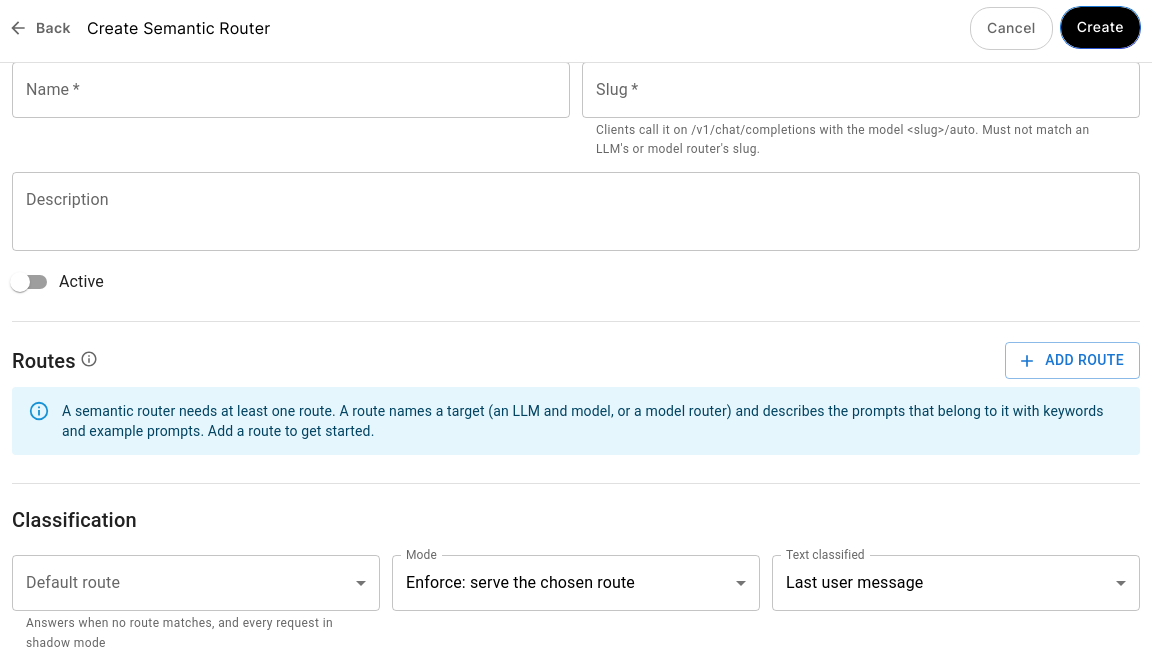
Scenario: SemanticRouterForm › flags bad route names, a missing target and examples without an embedder
The image size is (1152, 651).
Step 1. Type "Smart" into the field labelled "Name *" → [291, 90], box [12,62,570,118]
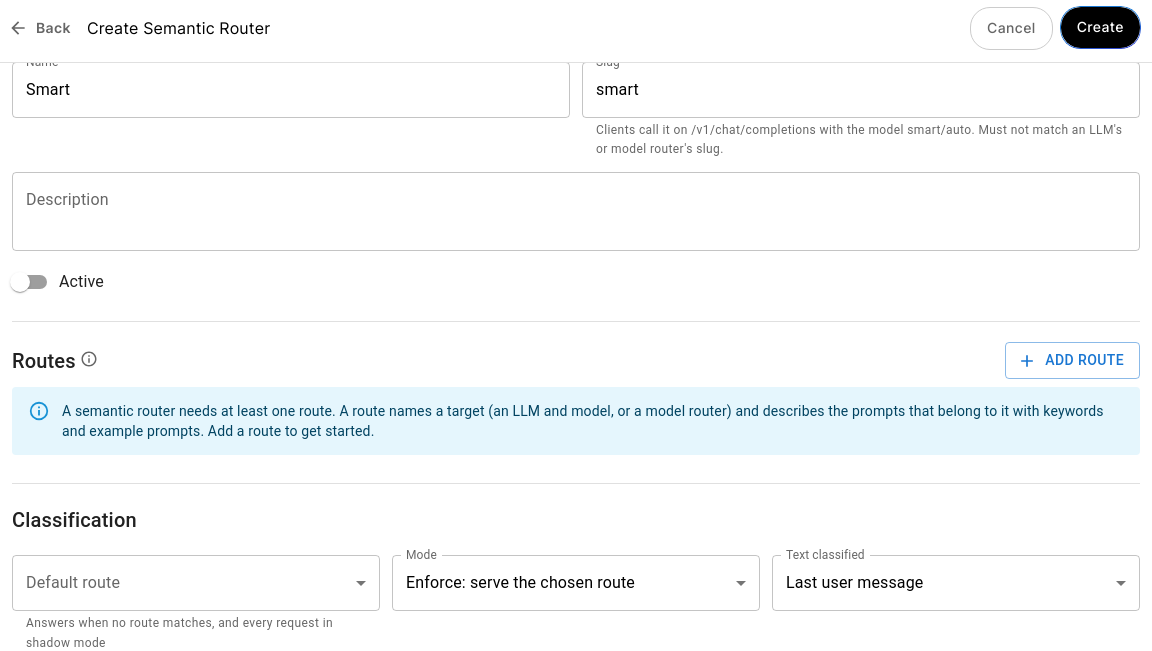
Step 2. Click the button "Add Route" → [1073, 361], box [1005,342,1140,379]
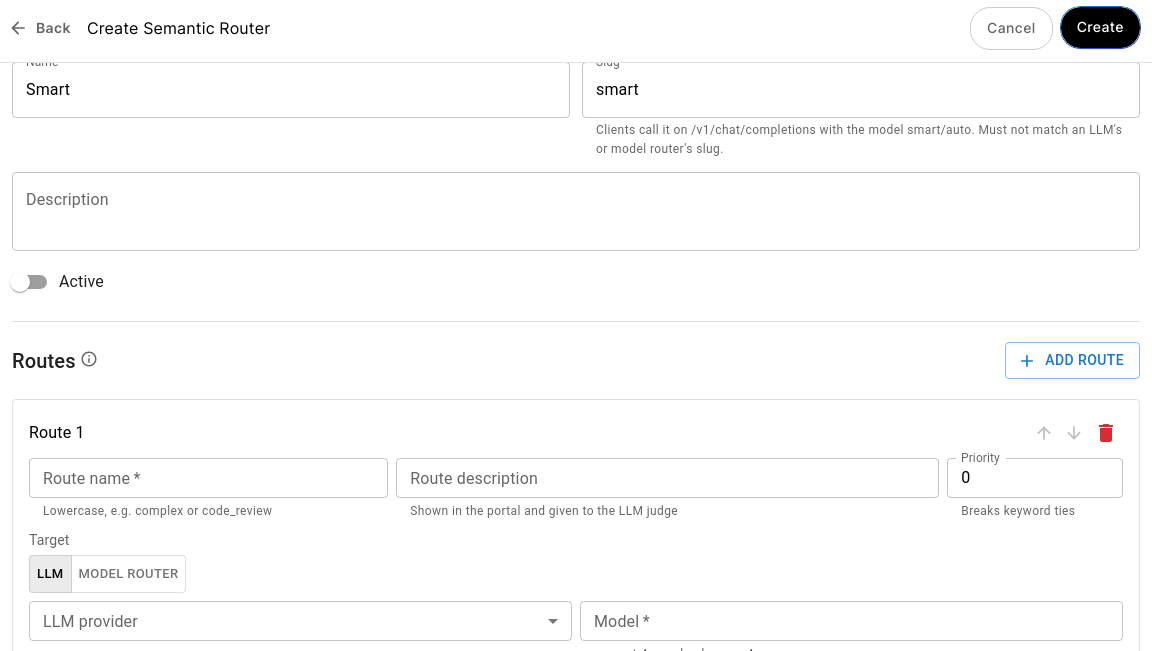
Step 3. Type "auto" into the field labelled "Route name *" → [209, 478], box [29,458,388,498]
(page scrolled)
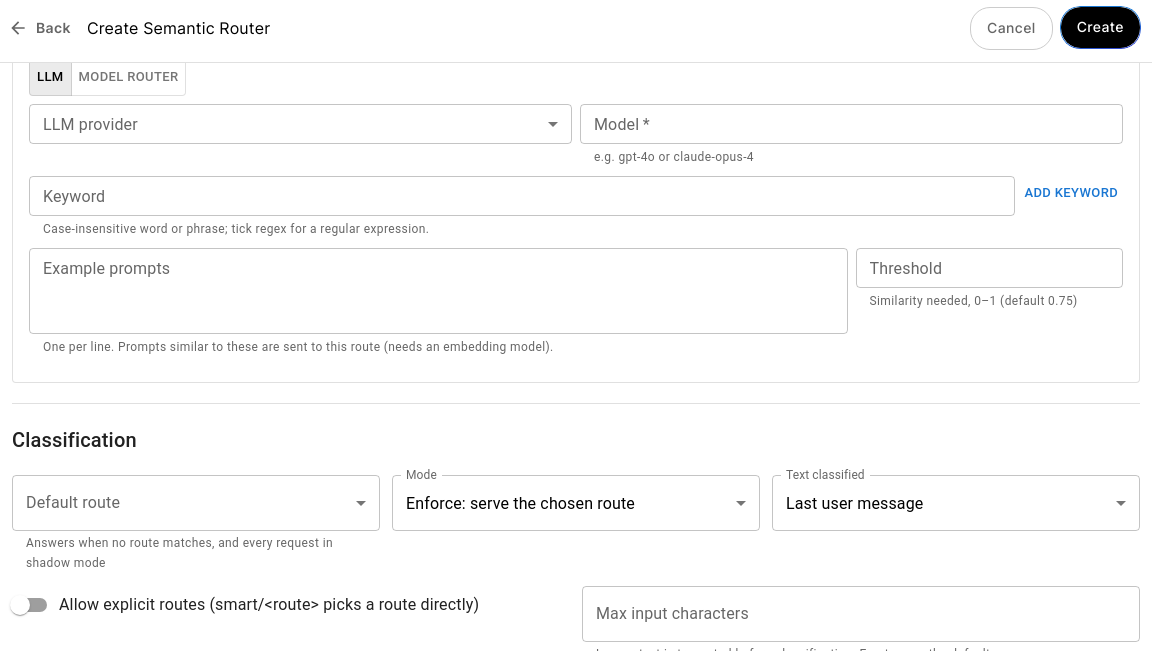
Step 4. Type "hello there" into the text box named "Example prompts for route 1" → [438, 291], box [43,257,834,326]
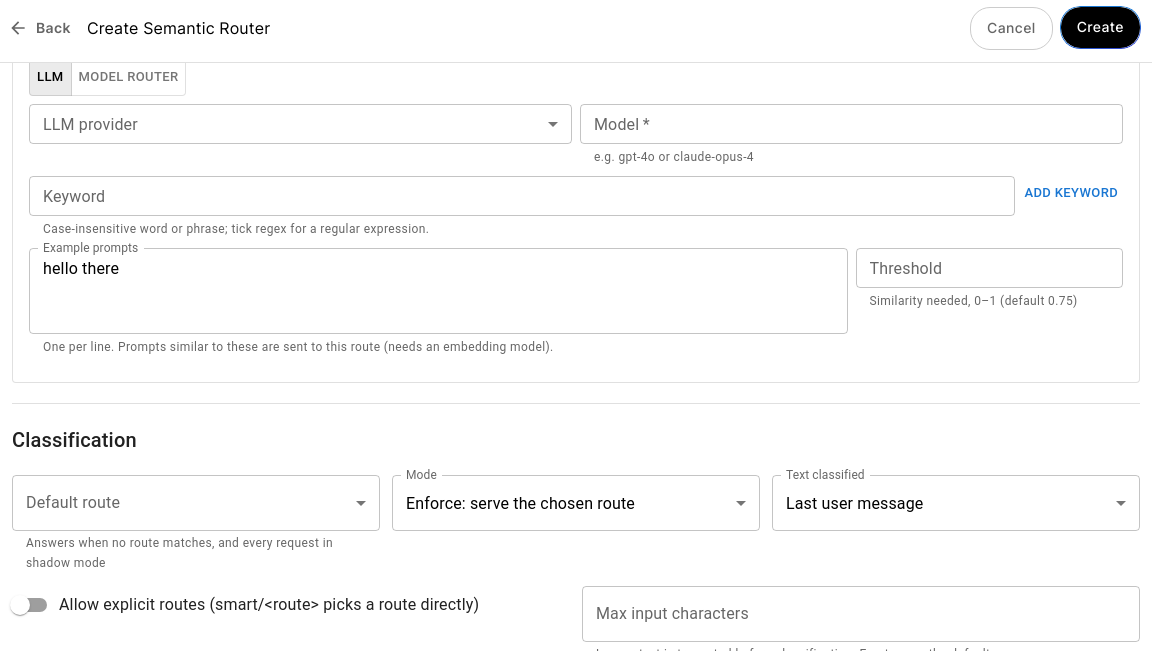
Step 5. Click the button "Create" → [1100, 27], box [1061,7,1140,48]
(page scrolled)
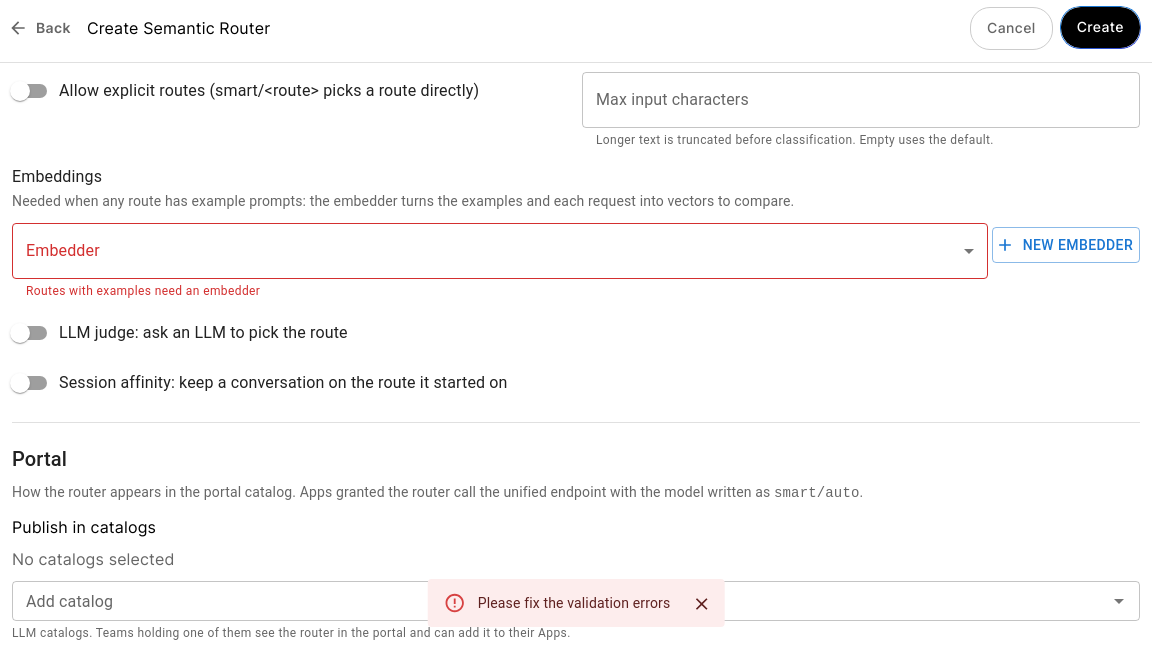
Result: the text "Routes with examples need an embedder" is shown at [26,284,260,298]
